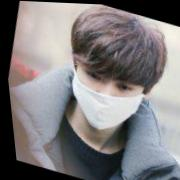WRONG: (62, 54, 148, 138)
